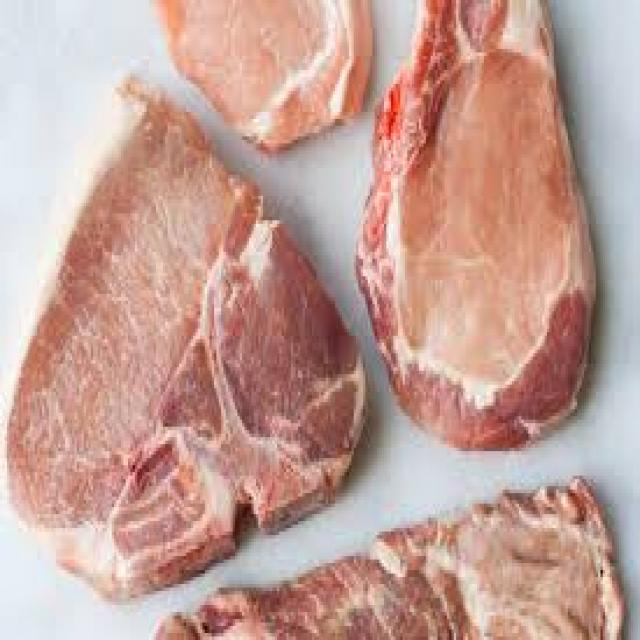Pork: (7, 94, 368, 600), (358, 0, 598, 449), (156, 479, 626, 640), (158, 0, 372, 150)
